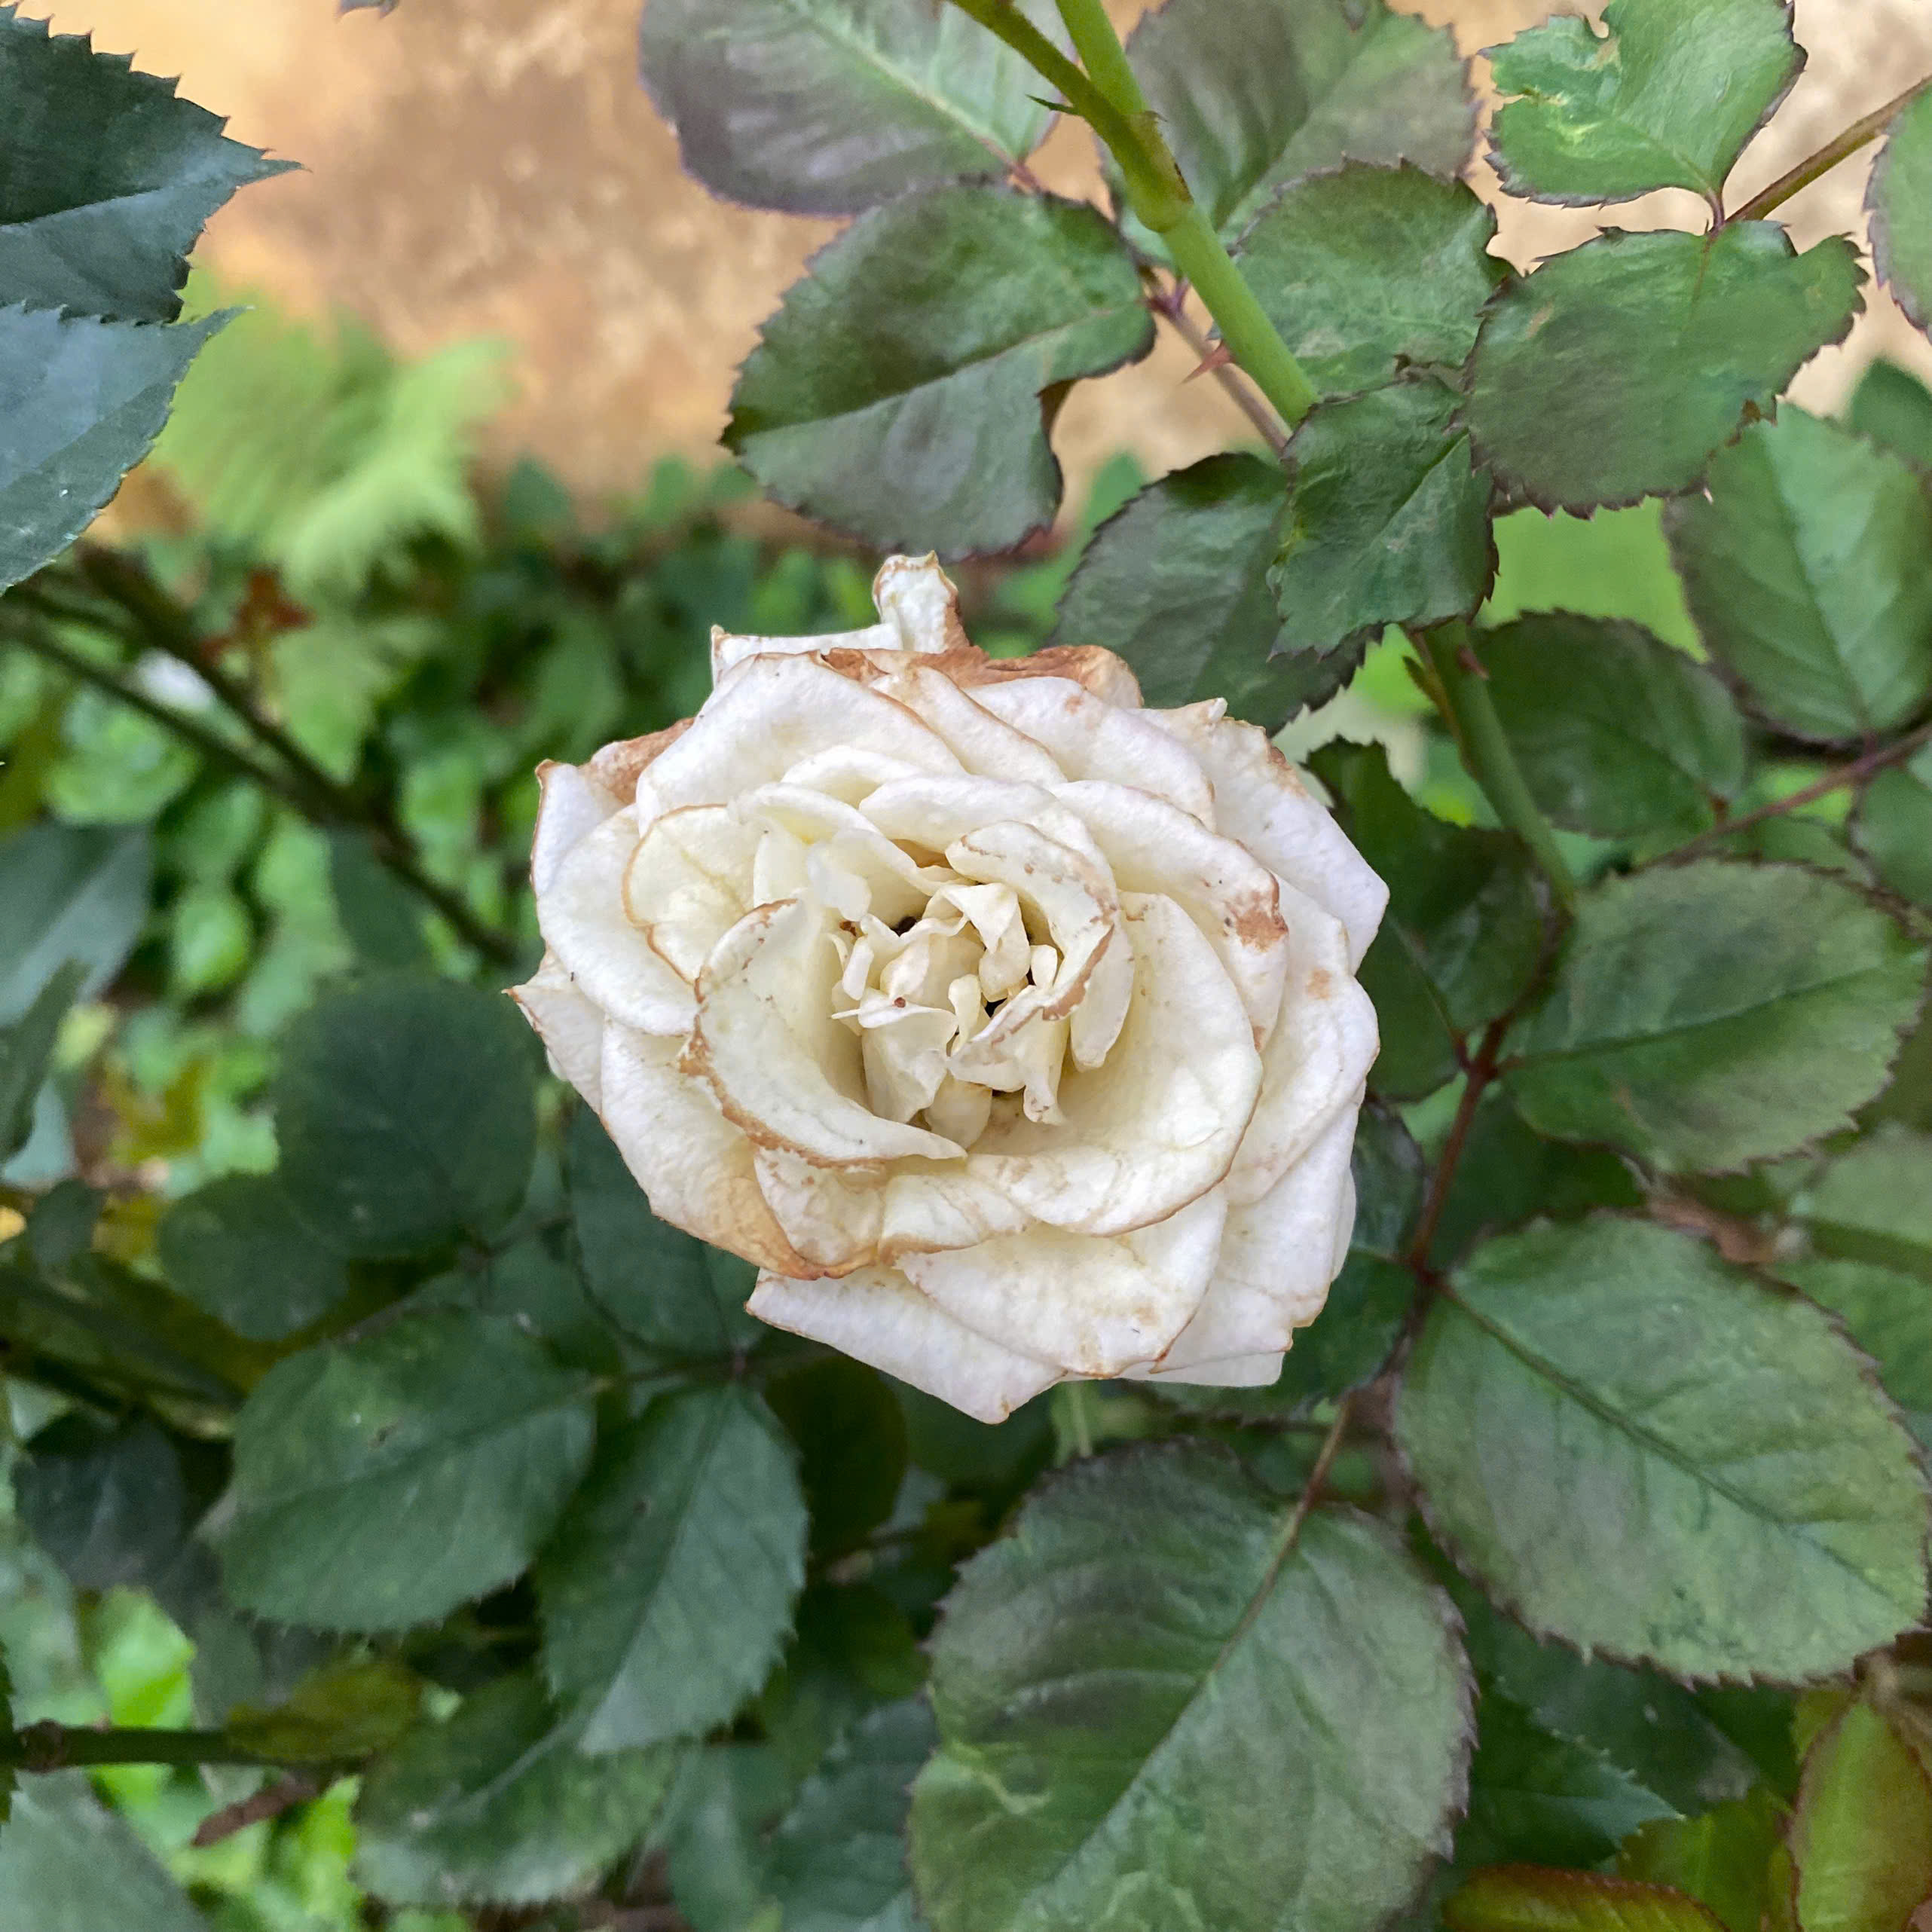hoa_thuoc_duoc: (214, 393, 1900, 1920)
